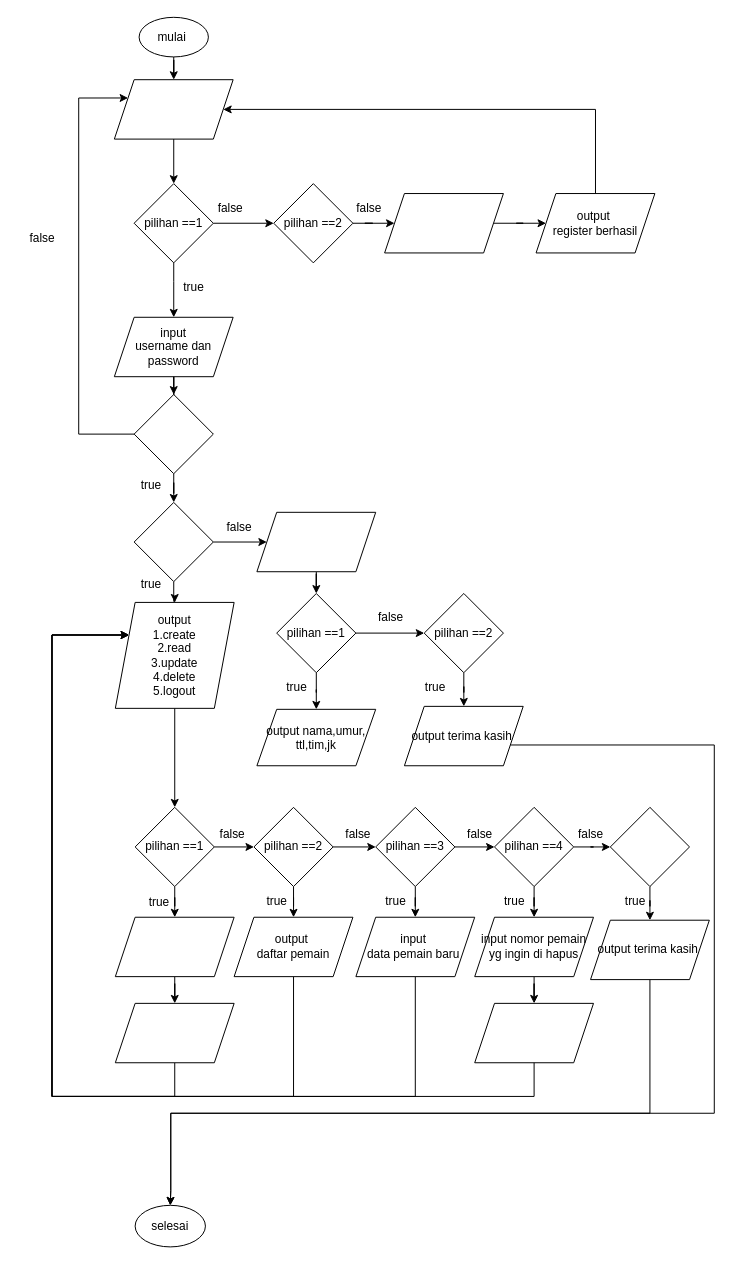
The diagram is 740 pixels wide and 1264 high, and some of its shapes have lost their labels. The box of each missing label's shape, as (x1, y1, x2, y2) in pixels:
input nama, umur, ttl, tim , jk: (114, 916, 234, 977)
input username, password, role,baru: (384, 193, 503, 253)
logiin berhasil: (133, 394, 213, 474)
login sebagai admin: (133, 501, 213, 582)
output 1.liat pemain 2. keluar: (256, 511, 376, 572)
output 1.login 2.register: (113, 79, 233, 139)
output pemain beerhasil di hapus: (474, 1002, 594, 1063)
output pemain berhasil di tambahkan: (114, 1002, 234, 1063)
pilihan ==5: (609, 806, 690, 887)
